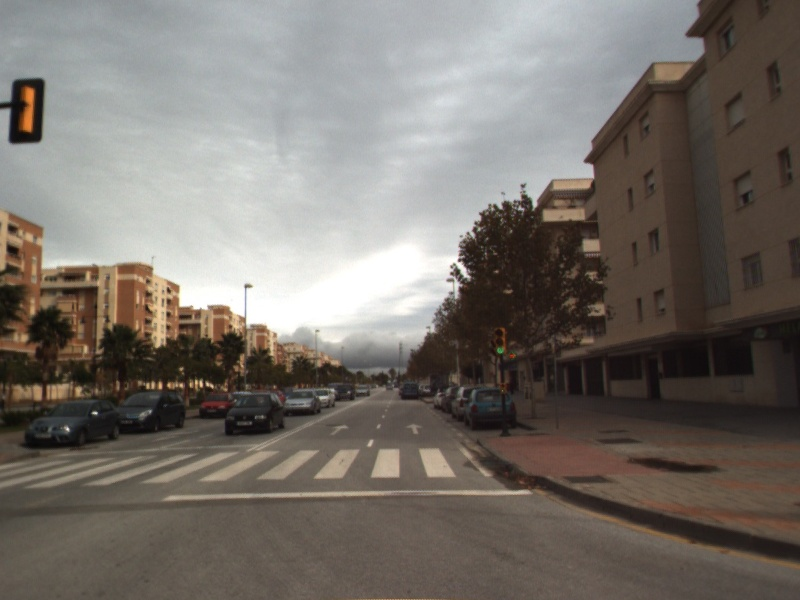STRAIGHT: (328, 422, 352, 437), (404, 421, 425, 437)
